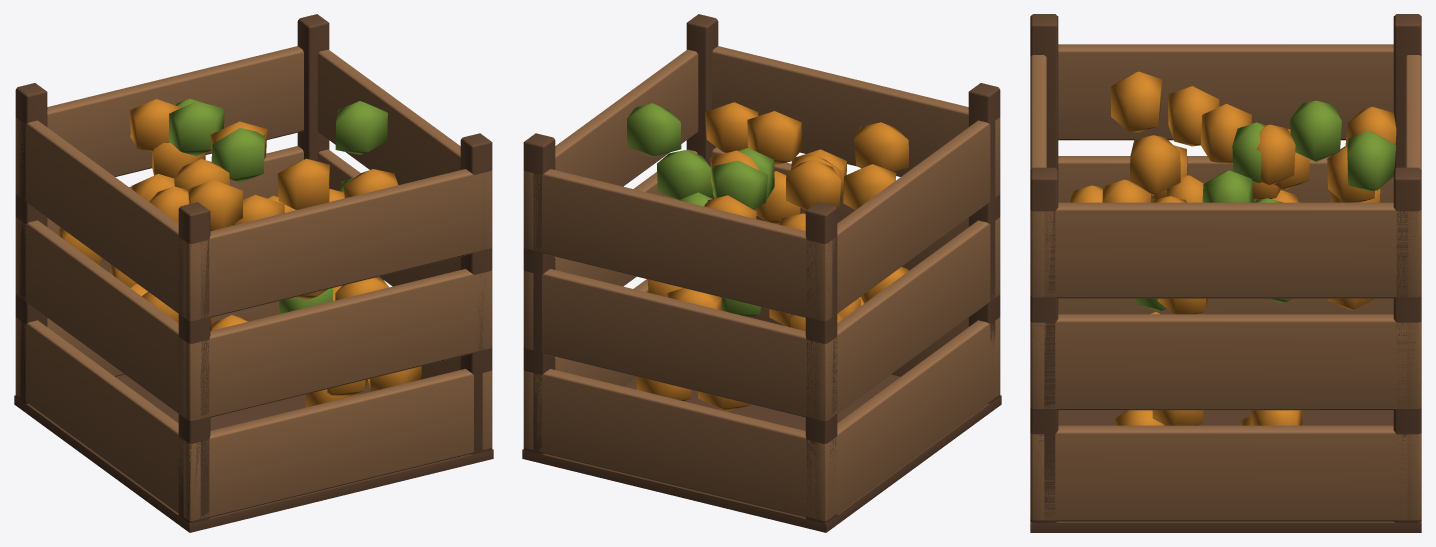
Rendered from CrateMIA.fbx.
3 views of the same model, side by side, from view 1: azimuth 30°, elevation 25°; view 2: azimuth 150°, elevation 25°; view 3: azimuth 270°, elevation 25° (orthographic). The views are drawn at different scales.
Parts seen in each view (by area): view 1: CrateMIA; view 2: CrateMIA; view 3: CrateMIA.
Boxes of the visible parts, <box> form: CrateMIA: <box>14,14,493,532</box>; CrateMIA: <box>522,14,1001,532</box>; CrateMIA: <box>1030,14,1421,532</box>.
Bounding box in the file's own units: 0.7 × 0.7 × 0.7.
